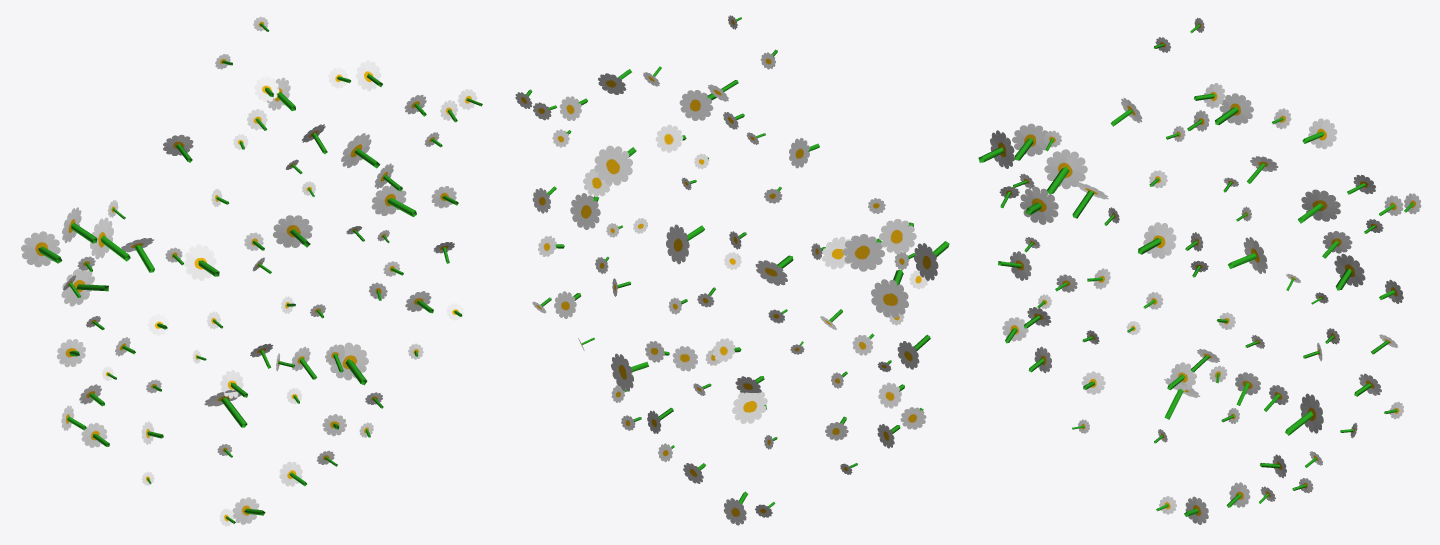
File: detailmesh_flowers.FBX
3 views of the same model, side by side, from view 1: azimuth 30°, elevation 25°; view 2: azimuth 150°, elevation 25°; view 3: azimuth 330°, elevation 25° (orthographic).
Parts seen in each view (by area): view 1: flower_mesh; view 2: flower_mesh; view 3: flower_mesh.
Boxes of the visible parts, bbox=[...] form: flower_mesh: bbox=[21, 16, 482, 526]; flower_mesh: bbox=[515, 15, 949, 525]; flower_mesh: bbox=[978, 17, 1421, 524].
Bounding box in the file's own units: 273 × 300 × 29.65.
Materials: 1 (1 with a texture image).
